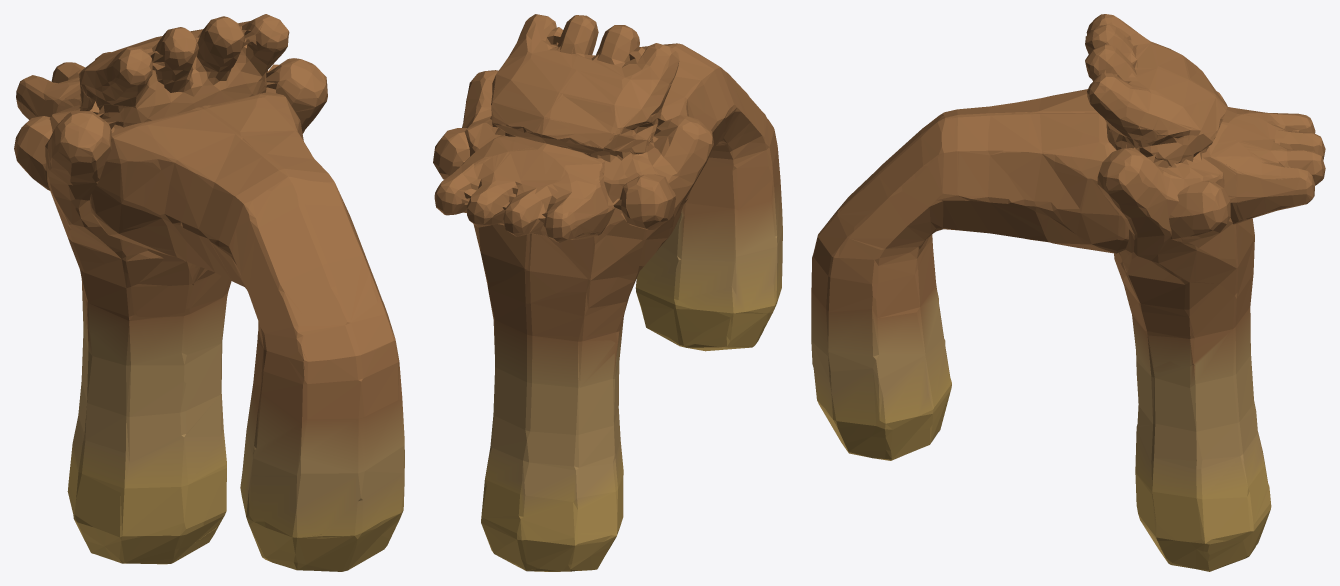
Rendered from worker-hands.glb.
The picture shows the model from 3 angles, left to right: view 1: azimuth 30°, elevation 25°; view 2: azimuth 150°, elevation 25°; view 3: azimuth 270°, elevation 25°; orthographic projection. The views are drawn at different scales.
Parts seen in each view (by area): view 1: ToolGrip_L, CarryGrip_L, CarryGrip_R, ToolGrip_R; view 2: CarryGrip_L, ToolGrip_L, CarryGrip_R, ToolGrip_R; view 3: ToolGrip_L, CarryGrip_L, ToolGrip_R, CarryGrip_R.
Boxes of the visible parts, x1,y1,x2,y2 form: ToolGrip_L: (14,52,404,571); CarryGrip_L: (45,14,289,564); CarryGrip_R: (79,21,327,393); ToolGrip_R: (16,52,357,537); CarryGrip_L: (481,14,713,571); ToolGrip_L: (434,43,782,351); CarryGrip_R: (462,20,673,432); ToolGrip_R: (433,43,773,239); ToolGrip_L: (811,89,1325,460); CarryGrip_L: (1085,14,1271,571); ToolGrip_R: (928,107,1312,253); CarryGrip_R: (1087,28,1254,424).
Bounding box in the file's own units: 0.1321 × 0.2681 × 0.238.
